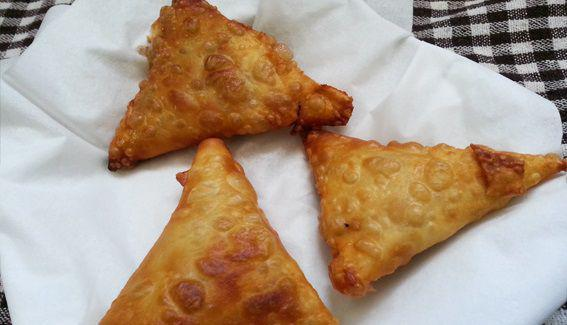samosa: (101, 138, 337, 324), (305, 132, 567, 296), (109, 1, 352, 170)
